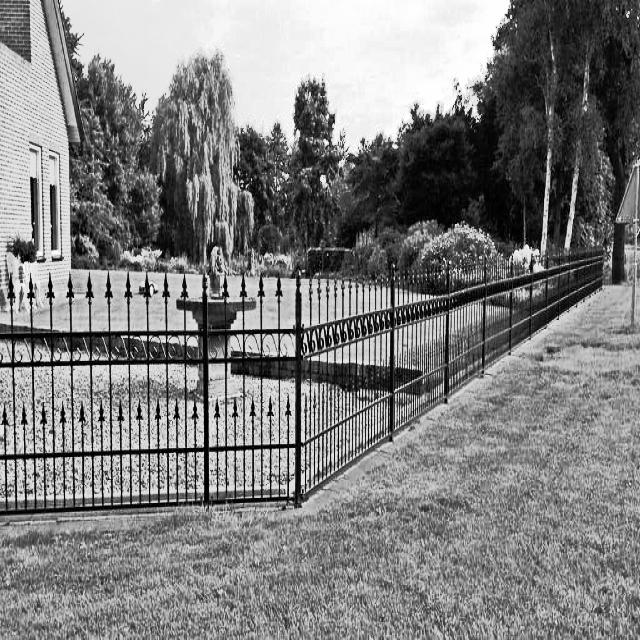fences: (0, 279, 308, 509), (448, 255, 606, 406), (319, 286, 439, 433)
